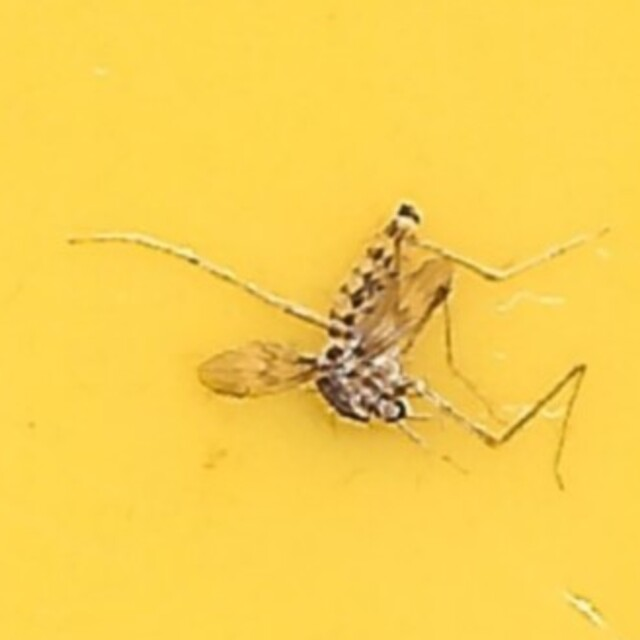Nematocera: (195, 203, 445, 437)
